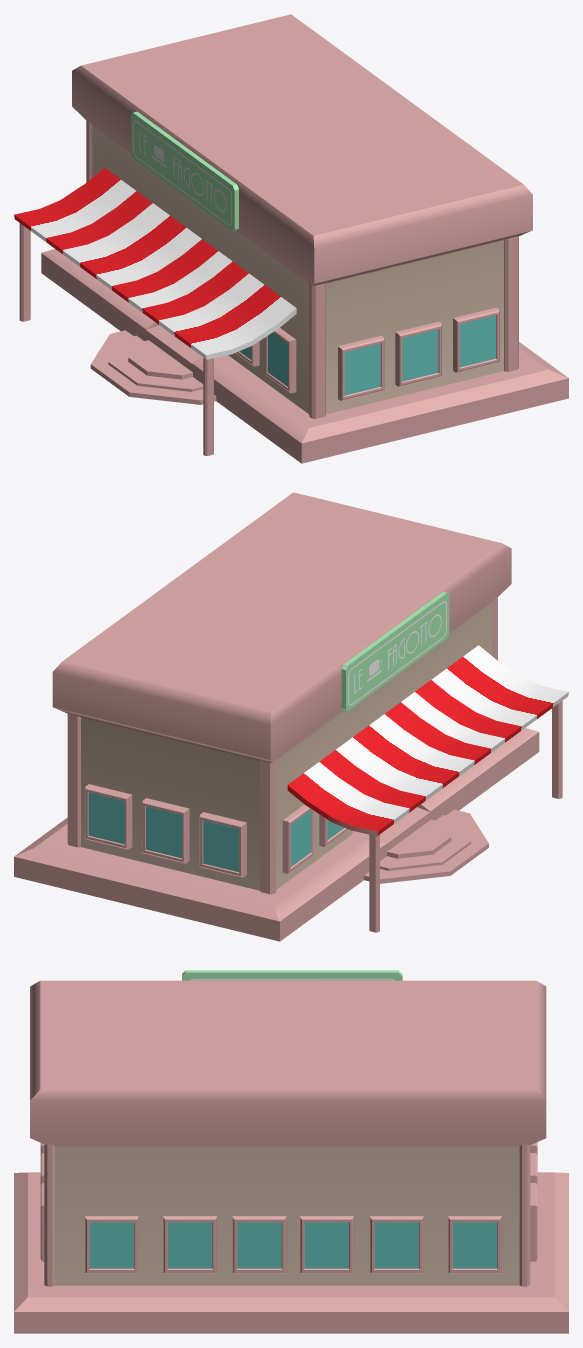
File: CafeFagottoTextured.fbx
3 views of the same model, one above another, from view 1: azimuth 30°, elevation 25°; view 2: azimuth 150°, elevation 25°; view 3: azimuth 270°, elevation 25° (orthographic). The views are drawn at different scales.
Parts seen in each view (by area): view 1: pCube90, pCube119, pCube91, pCube122, pCube116, pCube117, pCube118, pCube98, pCube95, pCube100, pCube103, pCube93 (+3 smaller); view 2: pCube90, pCube119, pCube91, pCube122, pCube113, pCube104, pCube112, pCube96, pCube95, pCube99, pCube114, pCube93 (+3 smaller); view 3: pCube90, pCube91, pCube111, pCube106, pCube107, pCube108, pCube109, pCube110, pCube122, pCube99, pCube100, pCube104.
Boxes of the visible parts, x1,y1,x2,y2 form: pCube90: (72,14,532,414); pCube119: (14,168,296,359); pCube91: (41,249,568,463); pCube122: (131,111,238,231); pCube116: (453,307,499,372); pCube117: (395,321,441,386); pCube118: (338,335,384,400); pCube98: (309,283,325,418); pCube95: (90,330,216,404); pCube100: (504,236,518,371); pCube103: (265,328,296,393); pCube93: (108,335,203,391); pCube90: (52,492,511,890); pCube119: (287,645,568,836); pCube91: (14,728,539,941); pCube122: (341,592,449,711); pCube113: (199,812,246,877); pCube104: (85,784,132,849); pCube112: (142,798,189,863); pCube96: (260,759,276,894); pCube95: (364,809,488,883); pCube99: (67,713,80,847); pCube114: (282,804,313,873); pCube93: (380,815,471,870); pCube90: (30,980,546,1285); pCube91: (14,1172,568,1333); pCube111: (232,1216,286,1273); pCube106: (448,1216,501,1273); pCube107: (370,1216,423,1273); pCube108: (163,1216,216,1273); pCube109: (85,1216,138,1273); pCube110: (300,1216,353,1273); pCube122: (182,970,402,980); pCube99: (519,1144,530,1286); pCube100: (44,1144,54,1286); pCube104: (530,1183,537,1261).
Size of the model in its own units: 28.5 by 18.17 by 38.94.
6 materials, 2 textured.
